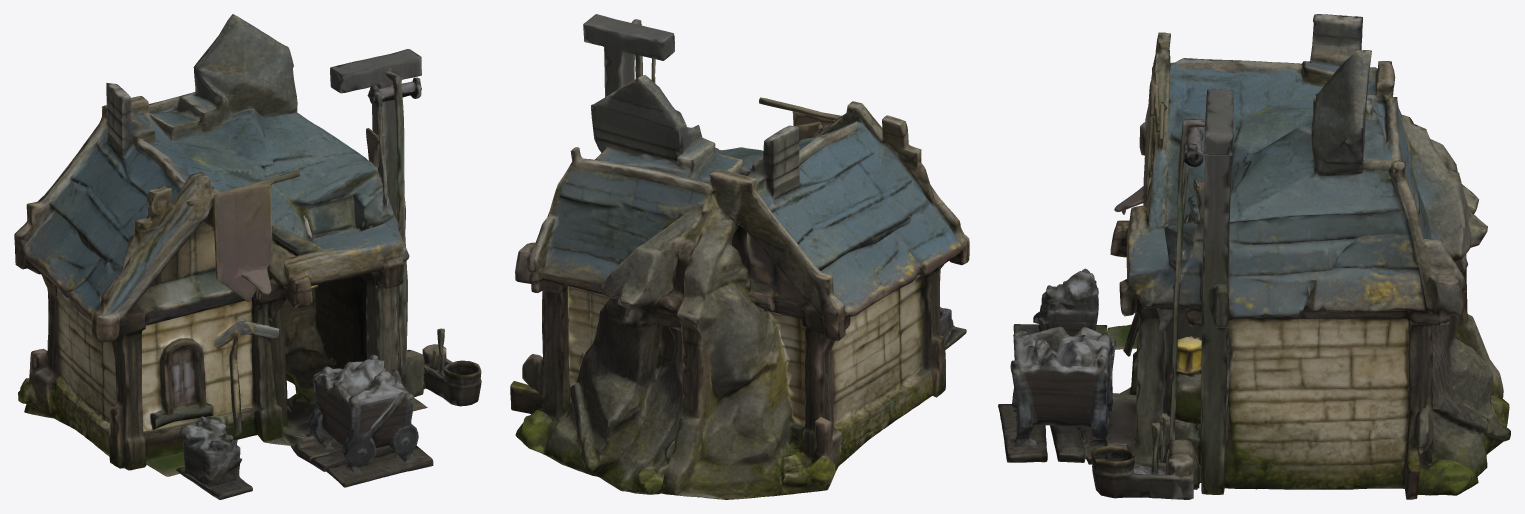
File: metal_mine.glb
3 views of the same model, side by side, from view 1: azimuth 30°, elevation 25°; view 2: azimuth 150°, elevation 25°; view 3: azimuth 270°, elevation 25° (orthographic). The views are drawn at different scales.
Visible parts, largest first — view 1: metal_mine_s7_fit; view 2: metal_mine_s7_fit; view 3: metal_mine_s7_fit.
Boxes of the visible parts, x1,y1,x2,y2 form: metal_mine_s7_fit: (14, 14, 481, 499); metal_mine_s7_fit: (510, 14, 969, 499); metal_mine_s7_fit: (998, 14, 1510, 499).
Size of the model in its own units: 3.39 by 3.18 by 3.62.
1 material, 1 textured.
